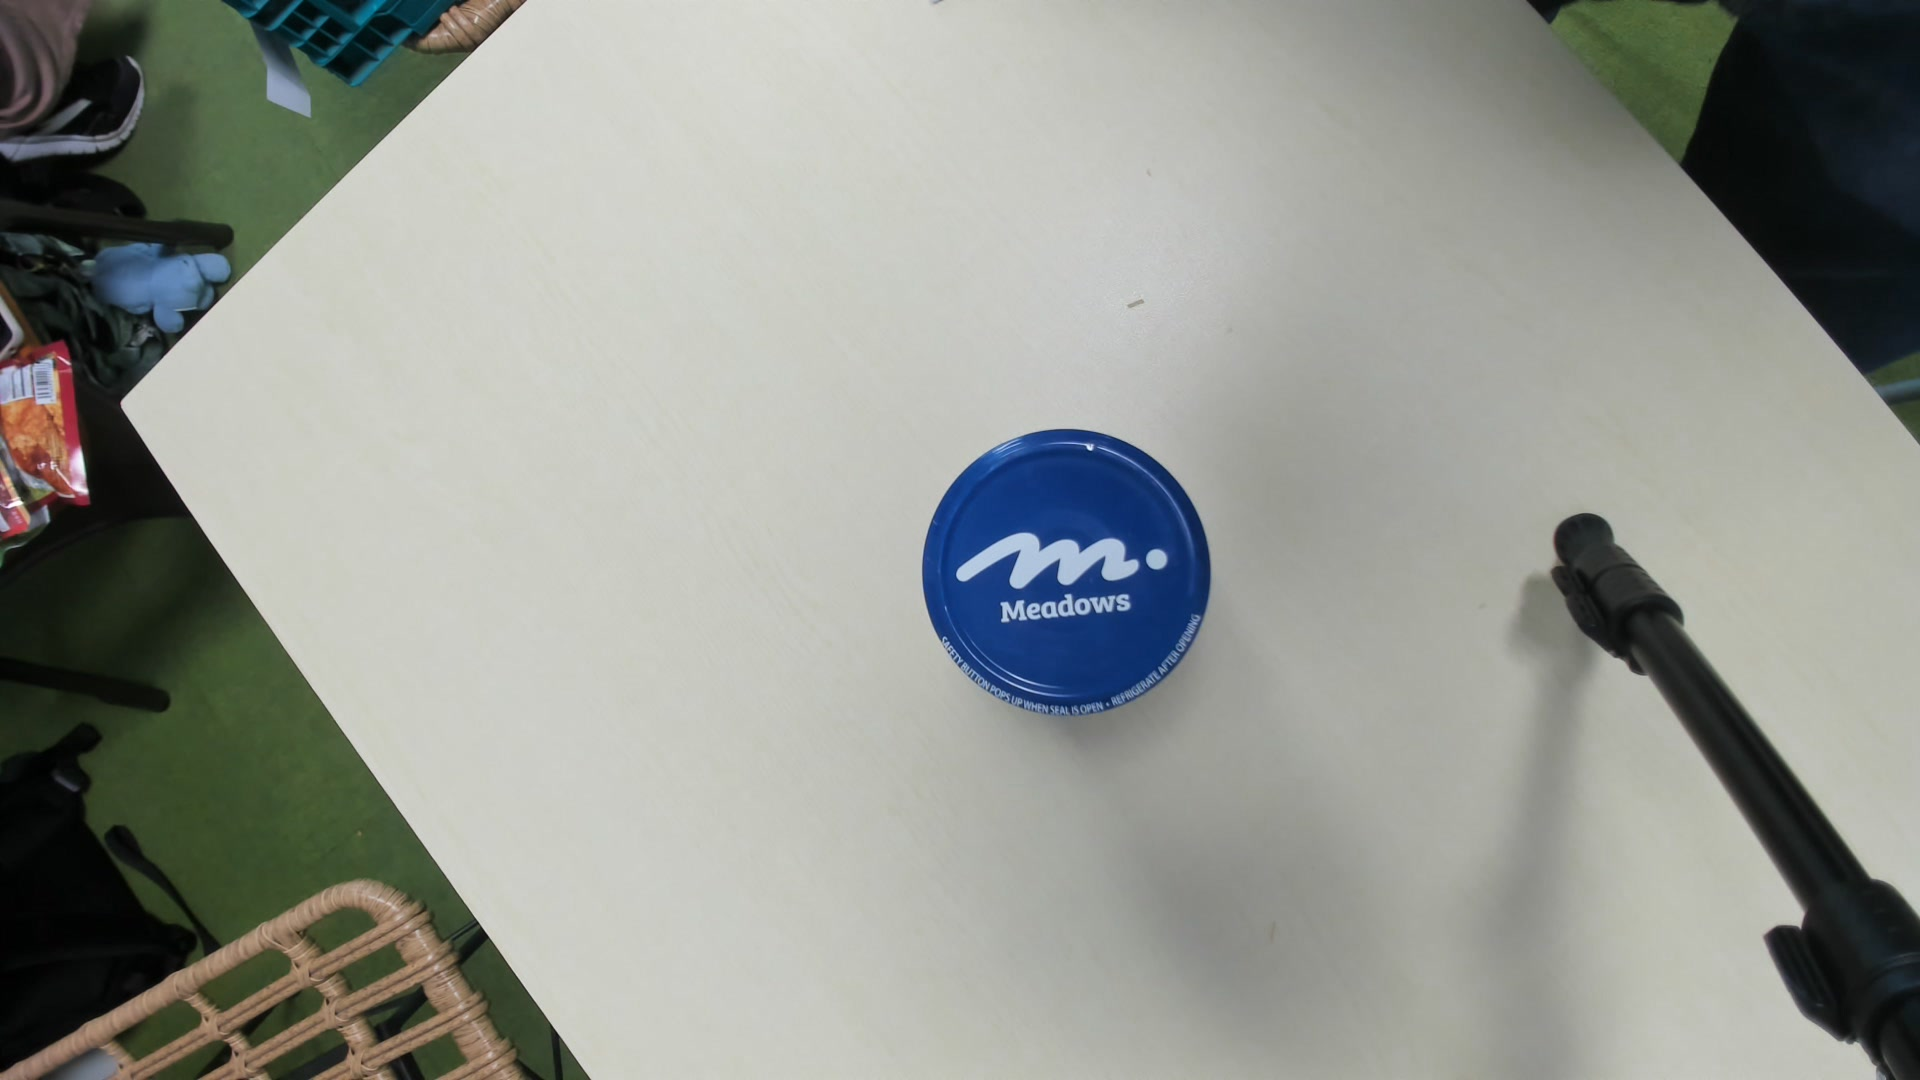PastaSauce_600-699g_Halal_NonHealthy: (915, 433, 1212, 721)
